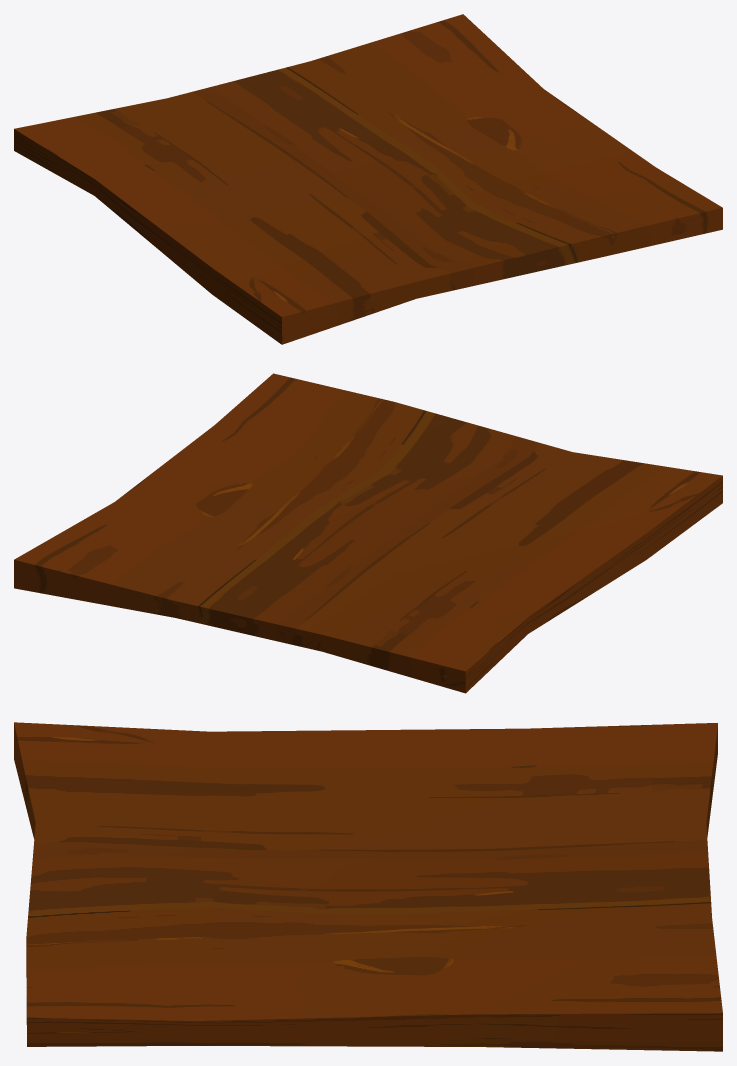
Rendered from SM_BLD_base_v03_01.fbx.
3 views of the same model, one above another, from view 1: azimuth 30°, elevation 25°; view 2: azimuth 150°, elevation 25°; view 3: azimuth 270°, elevation 25° (orthographic). The views are drawn at different scales.
Visible parts, largest first — view 1: SM_BLD_base_v03_01; view 2: SM_BLD_base_v03_01; view 3: SM_BLD_base_v03_01.
Boxes of the visible parts, box(x1,y1,x2,y2) form: SM_BLD_base_v03_01: box(14, 14, 722, 344); SM_BLD_base_v03_01: box(14, 373, 722, 693); SM_BLD_base_v03_01: box(14, 722, 722, 1051).
Bounding box in the file's own units: 600 × 41.25 × 610.
